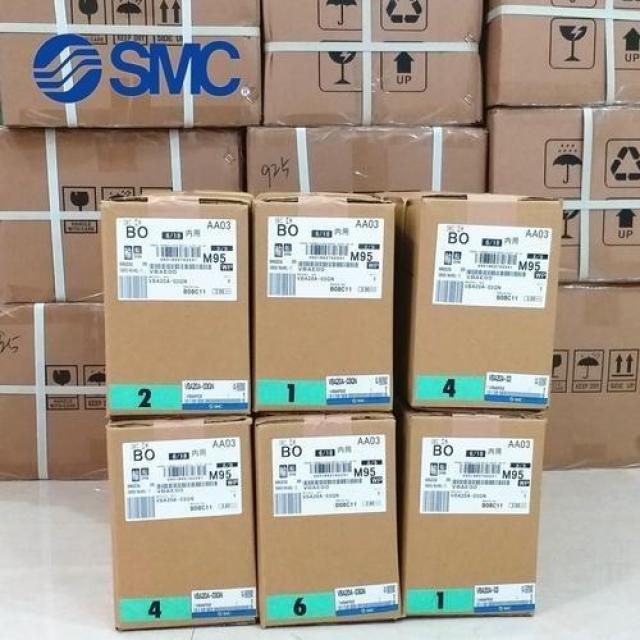box: (0, 123, 245, 303), (384, 188, 546, 424), (99, 196, 254, 421), (0, 0, 267, 130), (253, 187, 399, 421), (252, 410, 400, 626), (111, 427, 267, 629), (400, 407, 548, 616), (257, 0, 486, 134), (480, 108, 640, 288), (0, 306, 118, 488), (535, 277, 640, 470), (485, 0, 640, 113)
